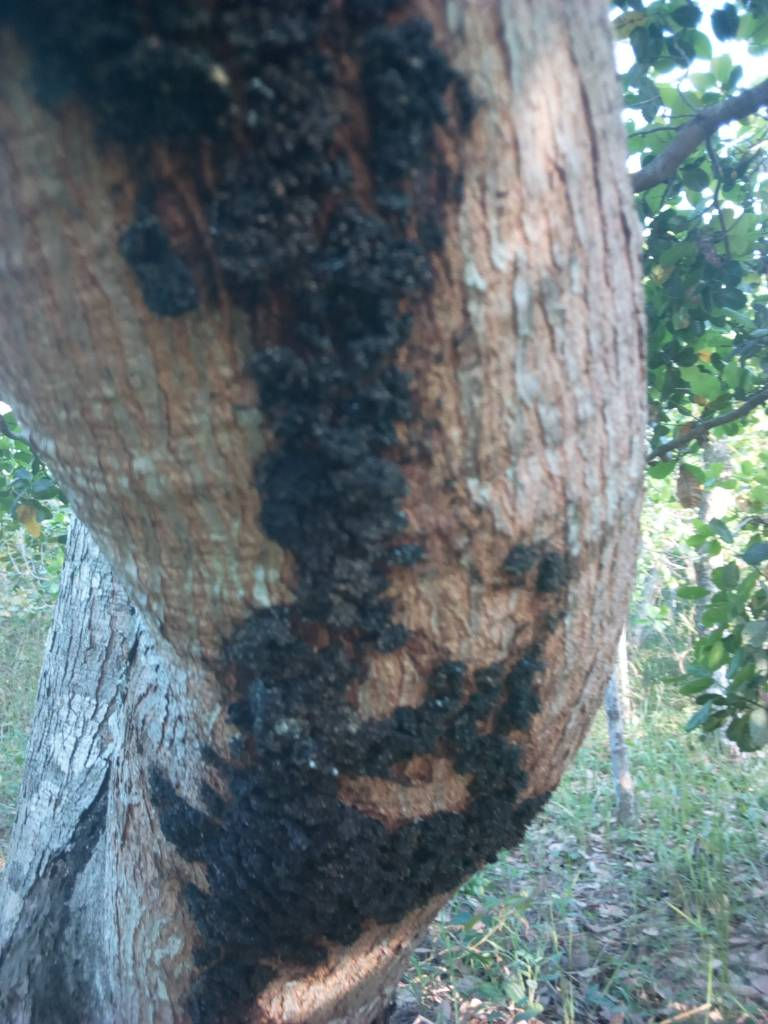Termites: (208, 85, 393, 971), (396, 649, 549, 885)
